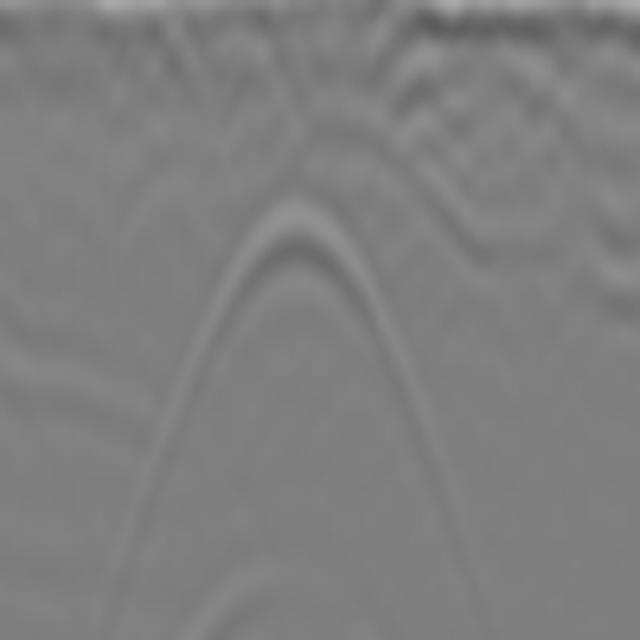hyperbola: (178, 185, 413, 423)
